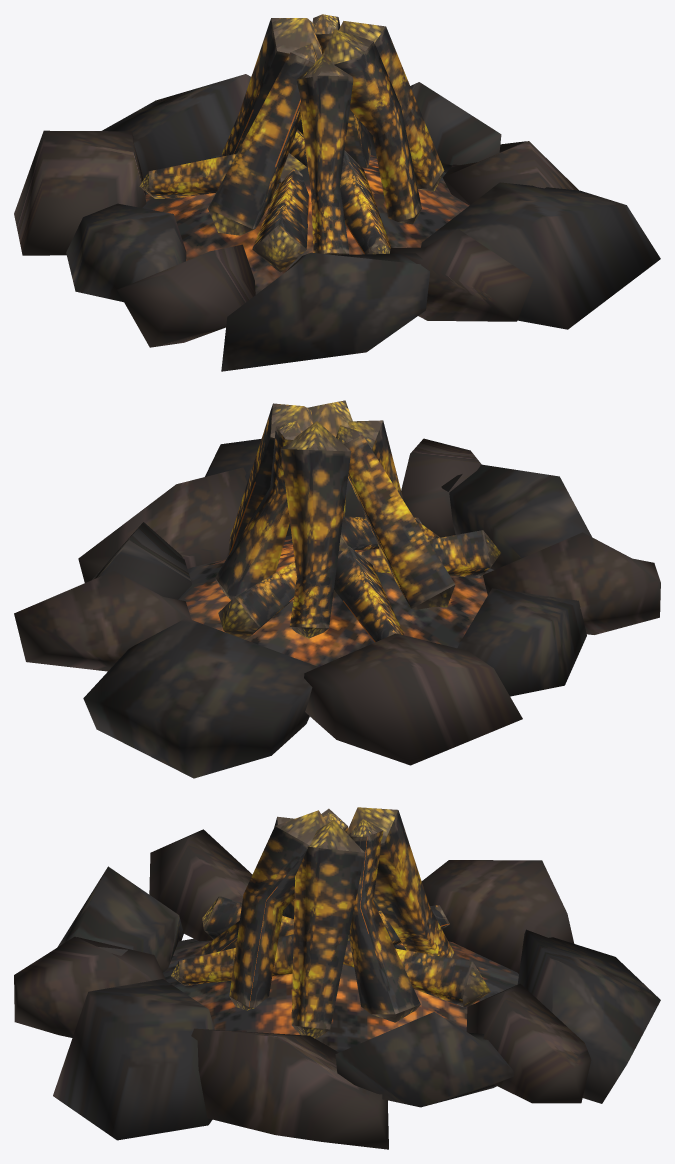
The model's file is campfire.fbx.
The picture shows the model from 3 angles, top to bottom: view 1: azimuth 30°, elevation 25°; view 2: azimuth 150°, elevation 25°; view 3: azimuth 270°, elevation 25°; orthographic projection.
Visible parts, largest first — view 1: campfire; view 2: campfire; view 3: campfire.
Boxes of the visible parts, box(x1,y1,x2,y2) form: campfire: box(14, 14, 660, 371); campfire: box(14, 400, 660, 778); campfire: box(14, 807, 660, 1149).
Size of the model in its own units: 2.94 by 1.47 by 3.21.
